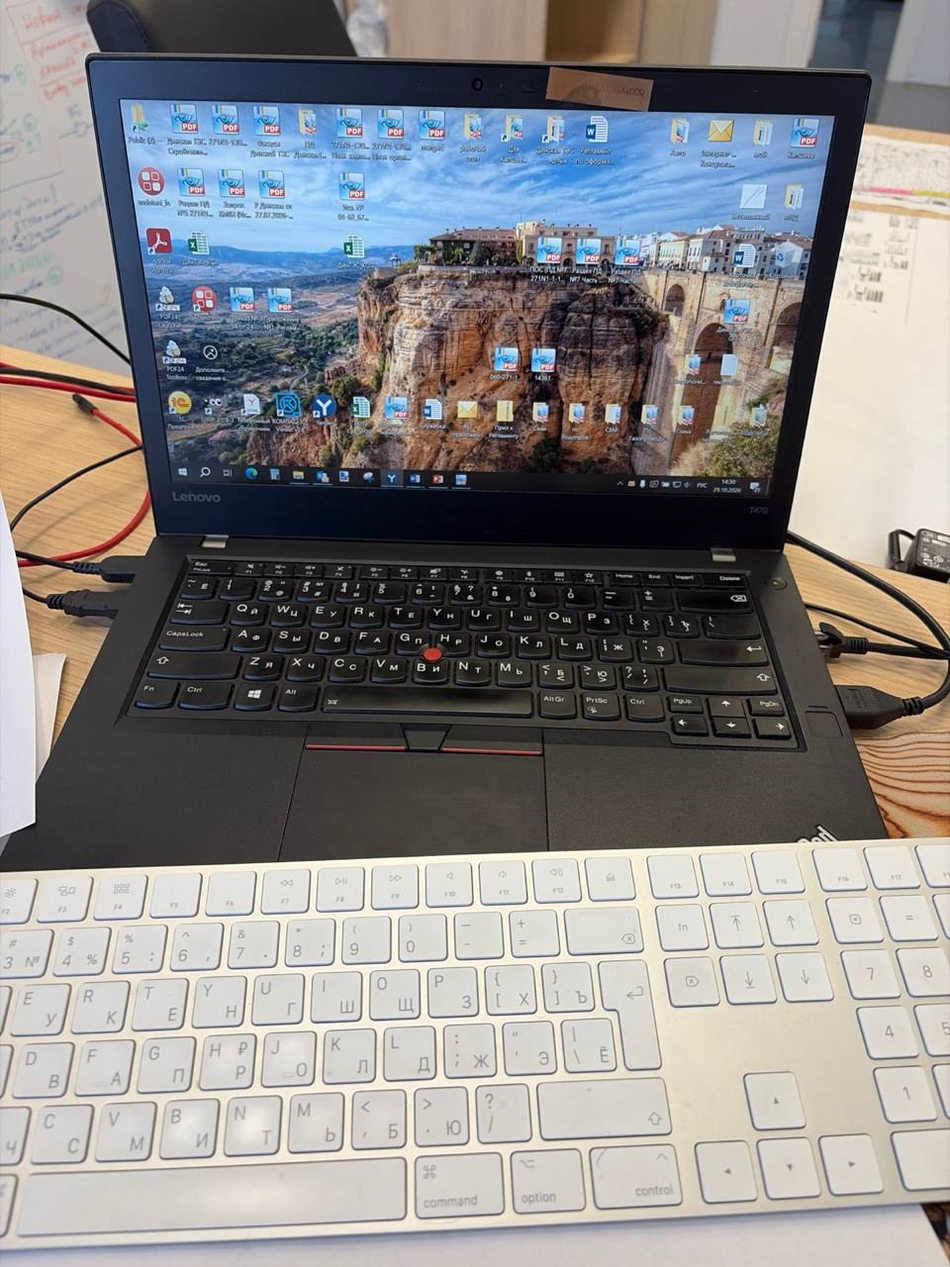laptop: (2, 51, 897, 868)
